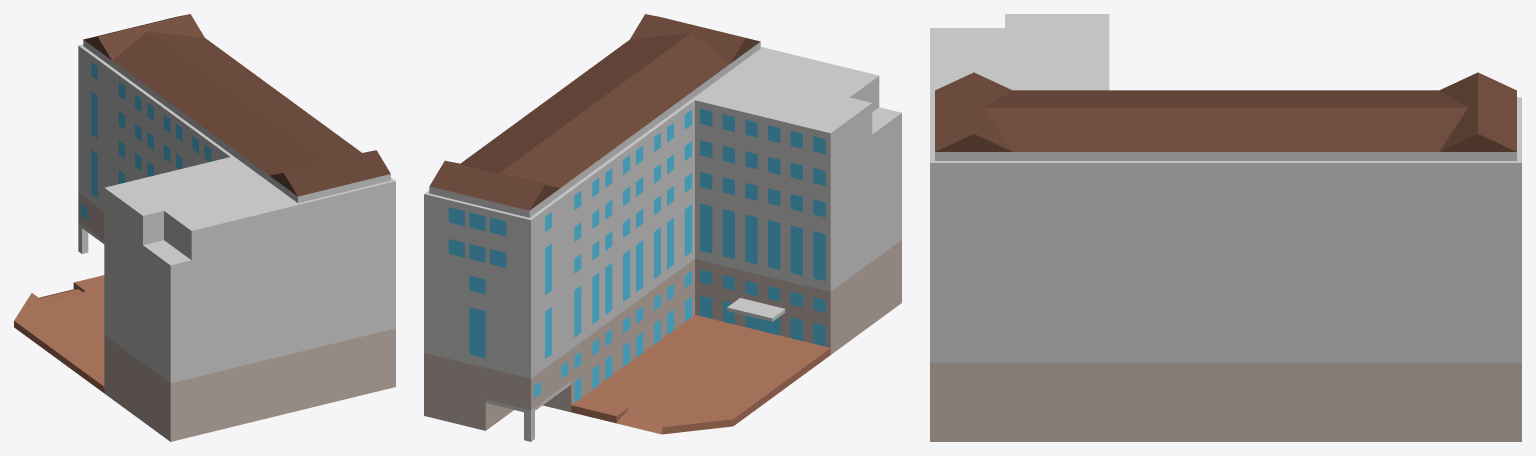
Rendered from HanUl.glb.
The picture shows the model from 3 angles, left to right: view 1: azimuth 30°, elevation 25°; view 2: azimuth 150°, elevation 25°; view 3: azimuth 270°, elevation 25°; orthographic projection. The views are drawn at different scales.
Parts seen in each view (by area): view 1: Main, Roof, Main Red, Floor, Window; view 2: Main, Roof, Main Red, Window, Floor; view 3: Main, Main Red, Roof.
Boxes of the visible parts, x1,y1,x2,y2 form: Main: [78, 40, 395, 383]; Roof: [83, 14, 390, 196]; Main Red: [78, 193, 395, 441]; Floor: [14, 275, 104, 392]; Window: [81, 62, 222, 219]; Main: [424, 42, 901, 441]; Roof: [430, 14, 760, 210]; Main Red: [424, 240, 901, 430]; Window: [448, 108, 825, 402]; Floor: [571, 315, 830, 434]; Main: [930, 14, 1521, 362]; Main Red: [930, 362, 1521, 441]; Roof: [935, 72, 1516, 151].
Size of the model in its own units: 35.4 by 33.9 by 59.4.
